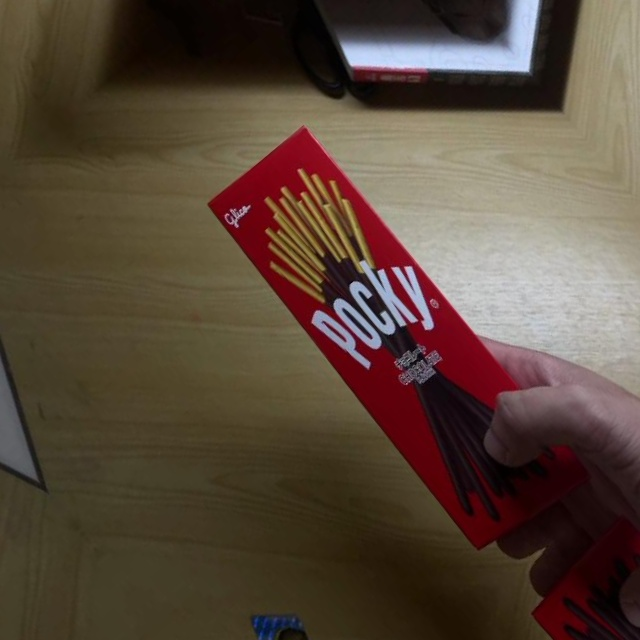Pocky: (194, 123, 590, 556)
